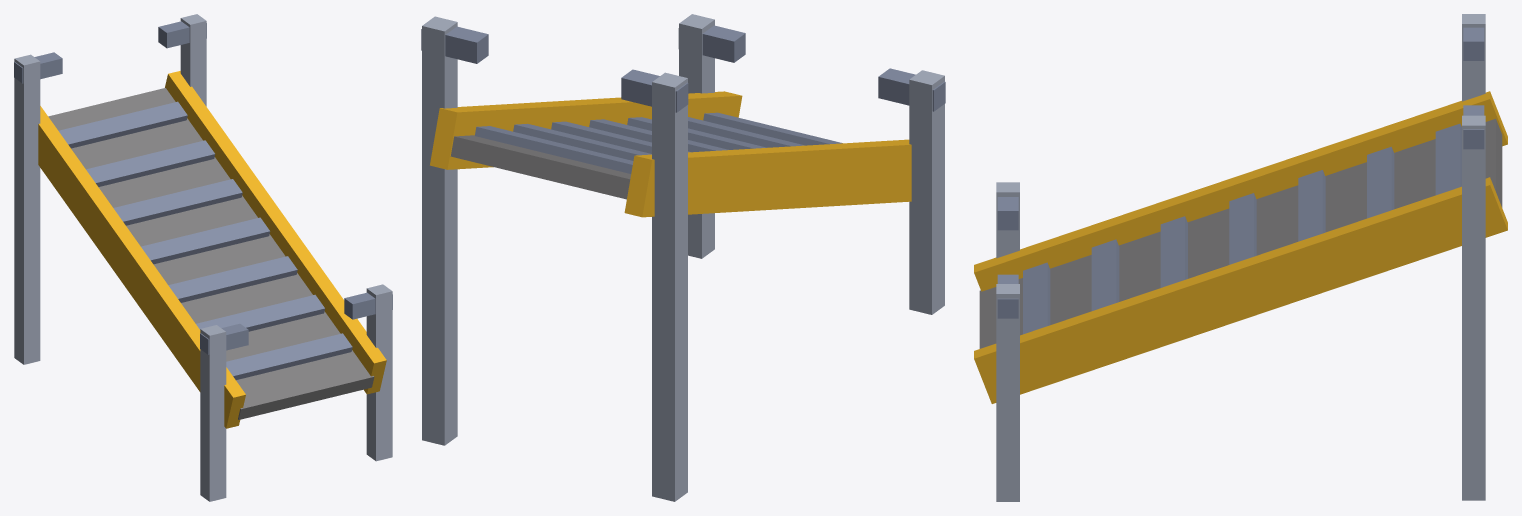
Rendered from conveyor_slope.glb.
3 renders of one model, left to right at view 1: azimuth 30°, elevation 25°; view 2: azimuth 150°, elevation 25°; view 3: azimuth 270°, elevation 25°, orthographic. The views are drawn at different scales.
Parts seen in each view (by area): view 1: conveyor_slope; view 2: conveyor_slope; view 3: conveyor_slope.
Boxes of the visible parts, left/top/right/bottom form: conveyor_slope: left=14, top=14, right=392, bottom=501; conveyor_slope: left=421, top=14, right=945, bottom=501; conveyor_slope: left=974, top=14, right=1507, bottom=501.
Bounding box in the file's own units: 1 × 1.55 × 2.
